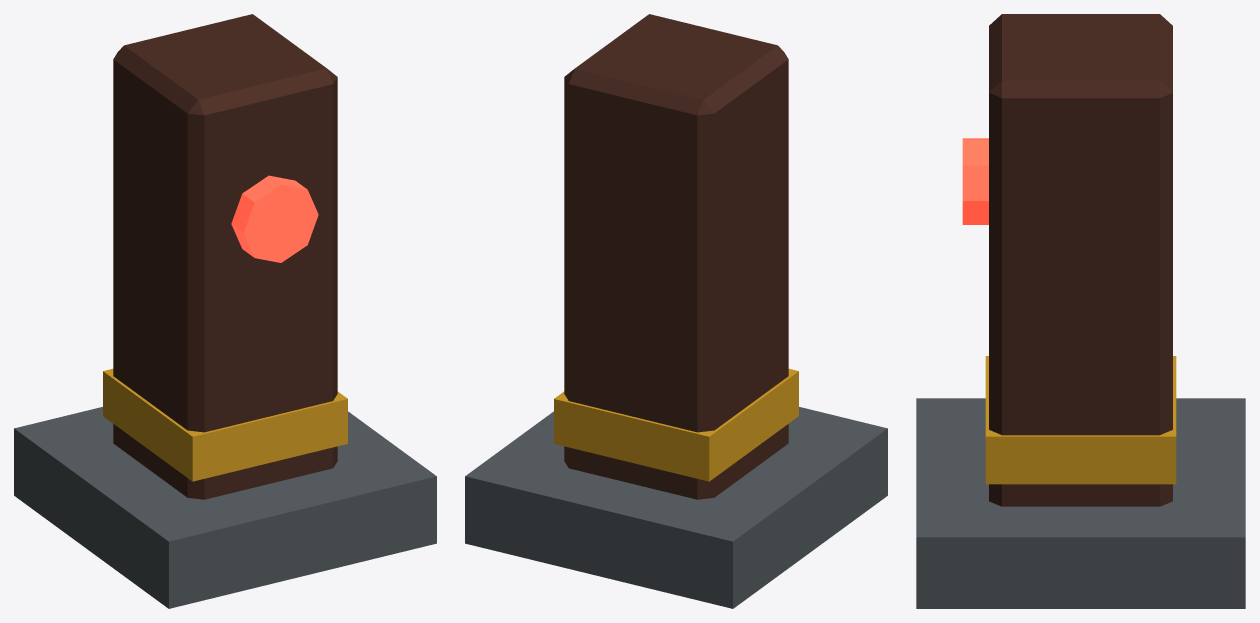
The model's file is laser_emitter.glb.
3 views of the same model, side by side, from view 1: azimuth 30°, elevation 25°; view 2: azimuth 150°, elevation 25°; view 3: azimuth 270°, elevation 25° (orthographic). The views are drawn at different scales.
Visible parts, largest first — view 1: laser_post, laser_base, laser_hazard, laser_lens_emit; view 2: laser_post, laser_base, laser_hazard; view 3: laser_post, laser_base, laser_hazard, laser_lens_emit.
Part boxes in pixels (x1=…): laser_post: x1=113, y1=14, x2=337, y2=499; laser_base: x1=14, y1=407, x2=436, y2=608; laser_hazard: x1=103, y1=368, x2=347, y2=481; laser_lens_emit: x1=231, y1=175, x2=318, y2=262; laser_post: x1=564, y1=14, x2=788, y2=499; laser_base: x1=465, y1=407, x2=887, y2=608; laser_hazard: x1=554, y1=368, x2=798, y2=481; laser_post: x1=989, y1=14, x2=1172, y2=506; laser_base: x1=916, y1=398, x2=1245, y2=608; laser_hazard: x1=985, y1=356, x2=1176, y2=484; laser_lens_emit: x1=962, y1=138, x2=988, y2=224.
Bounding box in the file's own units: 0.5 × 0.825 × 0.5.
